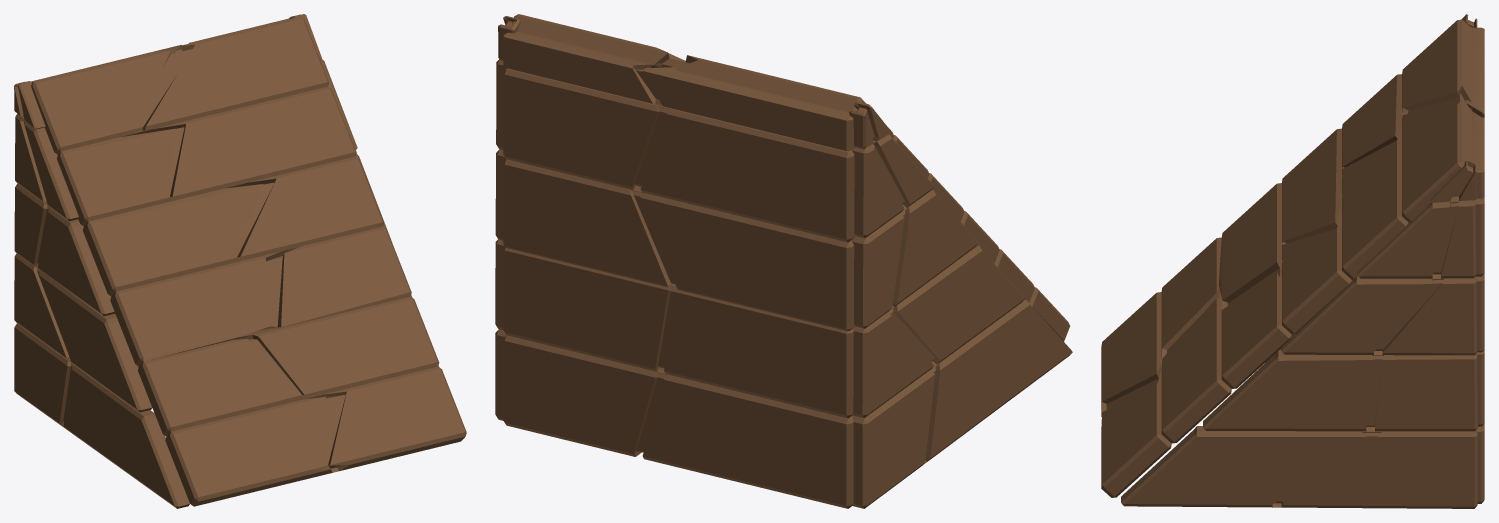
File: Rampa Rota como el kokoro.fbx
The picture shows the model from 3 angles, left to right: view 1: azimuth 30°, elevation 25°; view 2: azimuth 150°, elevation 25°; view 3: azimuth 270°, elevation 25°; orthographic projection. The views are drawn at different scales.
Visible parts, largest first — view 1: polySurface405; view 2: polySurface405; view 3: polySurface405.
Part boxes in pixels (<box>): polySurface405: <box>14,14,466,508</box>; polySurface405: <box>495,14,1072,508</box>; polySurface405: <box>1101,14,1484,508</box>.
Size of the model in its own units: 3.2 by 3.3 by 3.34.
